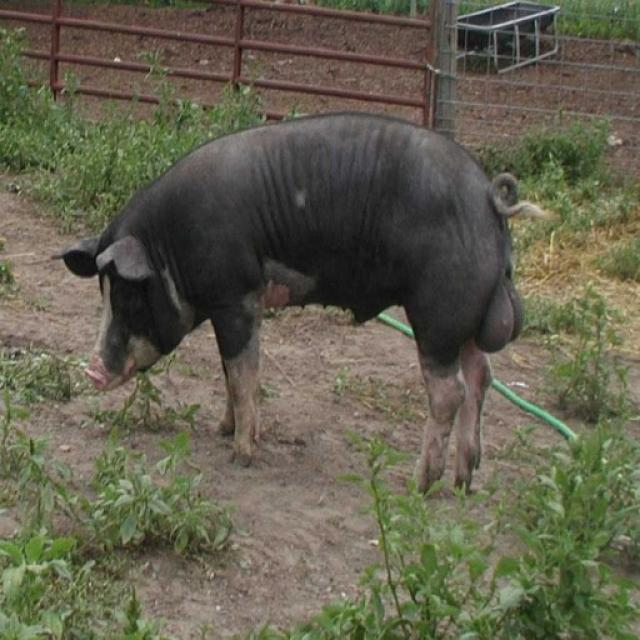pig: (72, 105, 525, 496)
